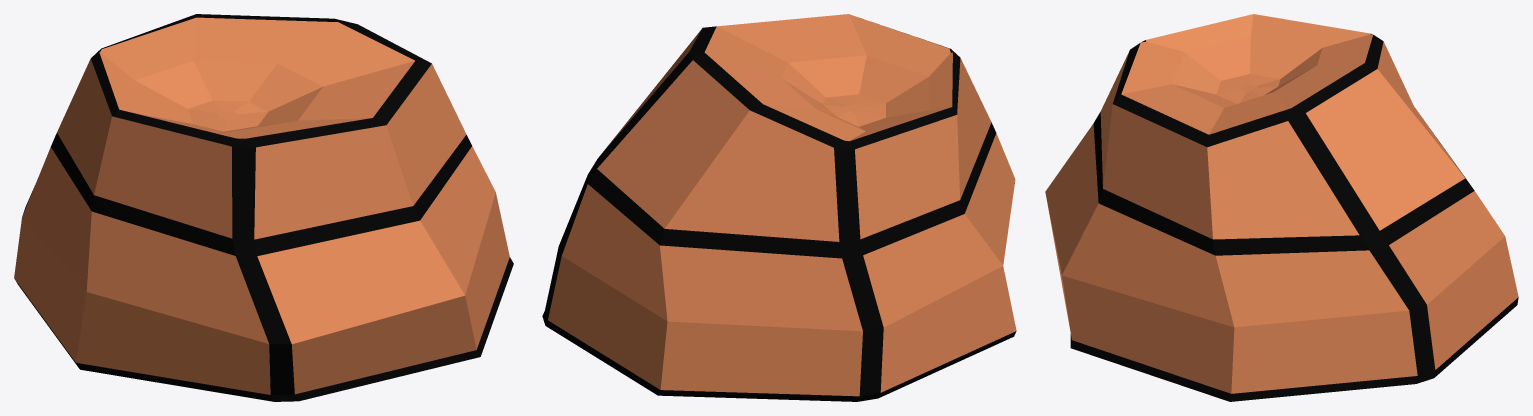
The model's file is PaperRock02 1.fbx.
3 views of the same model, side by side, from view 1: azimuth 30°, elevation 25°; view 2: azimuth 150°, elevation 25°; view 3: azimuth 270°, elevation 25° (orthographic). The views are drawn at different scales.
Parts seen in each view (by area): view 1: Circle.021; view 2: Circle.021; view 3: Circle.021.
Boxes of the visible parts, x1,y1,x2,y2 form: Circle.021: (14, 14, 513, 401); Circle.021: (542, 14, 1016, 401); Circle.021: (1045, 14, 1518, 401).
Bounding box in the file's own units: 927 × 510 × 950.
